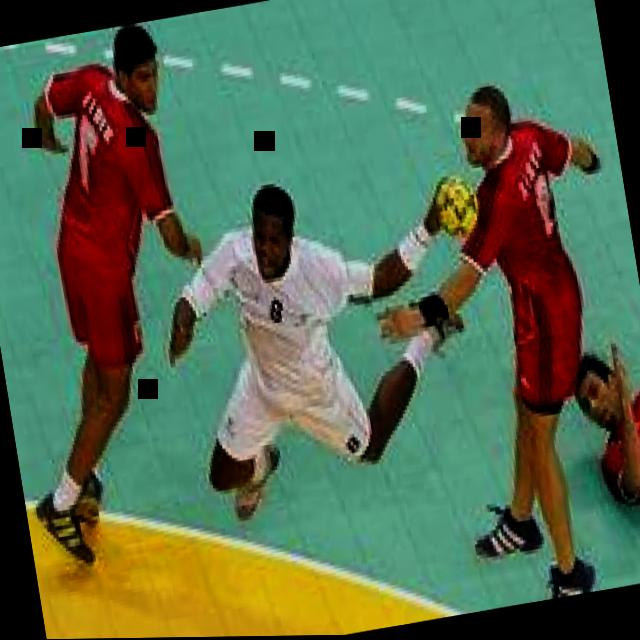Fall-Detected: (548, 262, 640, 590)
